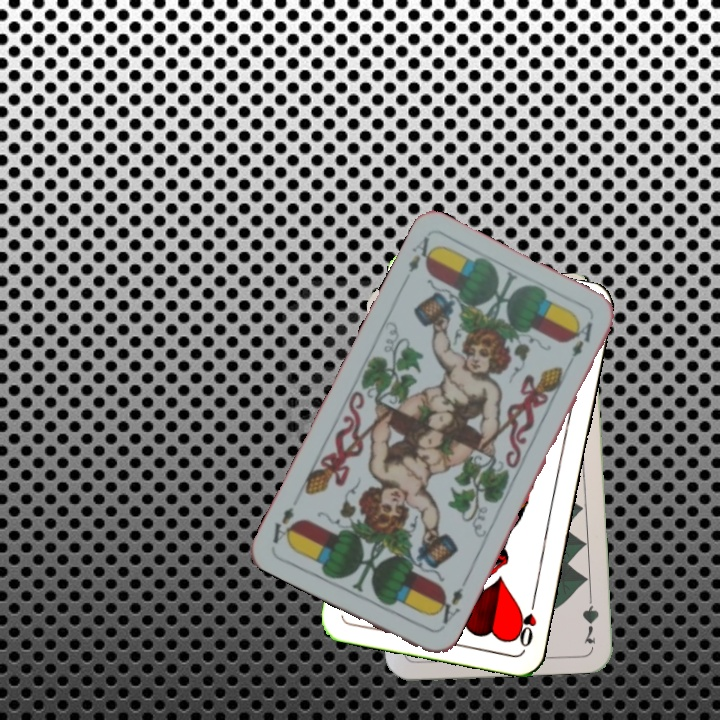EA: (398, 232, 439, 288), (430, 577, 469, 627)
G7: (579, 587, 602, 647)
HO: (513, 592, 540, 650)
